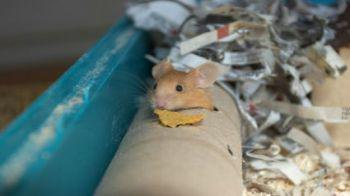rat: (147, 61, 220, 111)
